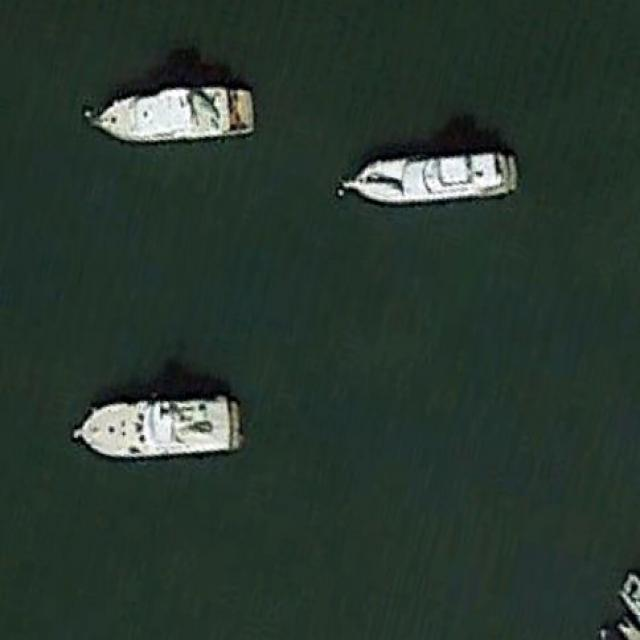boat: (72, 388, 245, 461), (336, 147, 516, 208), (86, 83, 256, 143)
